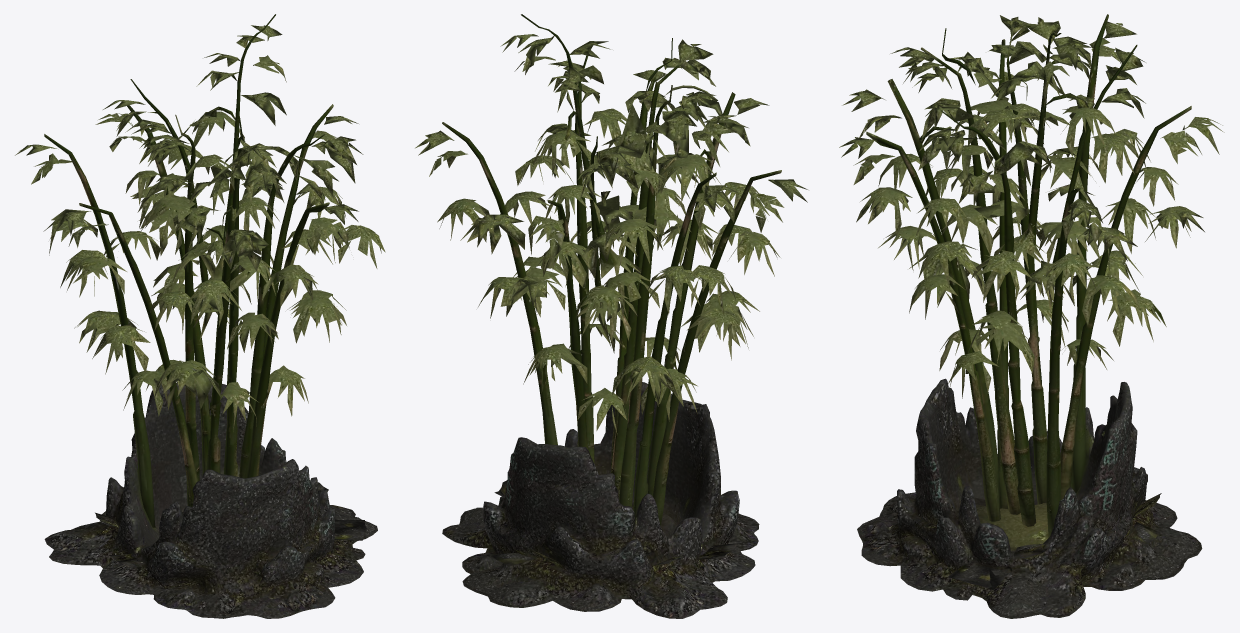
File: tripo_convert_448d70c7-4900-4f3f-840e-2a9b8a30cd62.fbx
3 views of the same model, side by side, from view 1: azimuth 30°, elevation 25°; view 2: azimuth 150°, elevation 25°; view 3: azimuth 270°, elevation 25° (orthographic). The views are drawn at different scales.
Visible parts, largest first — view 1: tripo_node_448d70c7; view 2: tripo_node_448d70c7; view 3: tripo_node_448d70c7.
Part boxes in pixels (x1=…): tripo_node_448d70c7: x1=15, y1=14, x2=385, y2=618; tripo_node_448d70c7: x1=415, y1=14, x2=807, y2=618; tripo_node_448d70c7: x1=839, y1=14, x2=1224, y2=618.
Size of the model in its own units: 0.6895 by 0.998 by 0.6426.
Materials: 1 (1 with a texture image).
